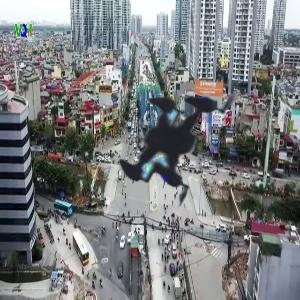drone: (62, 33, 281, 252)
